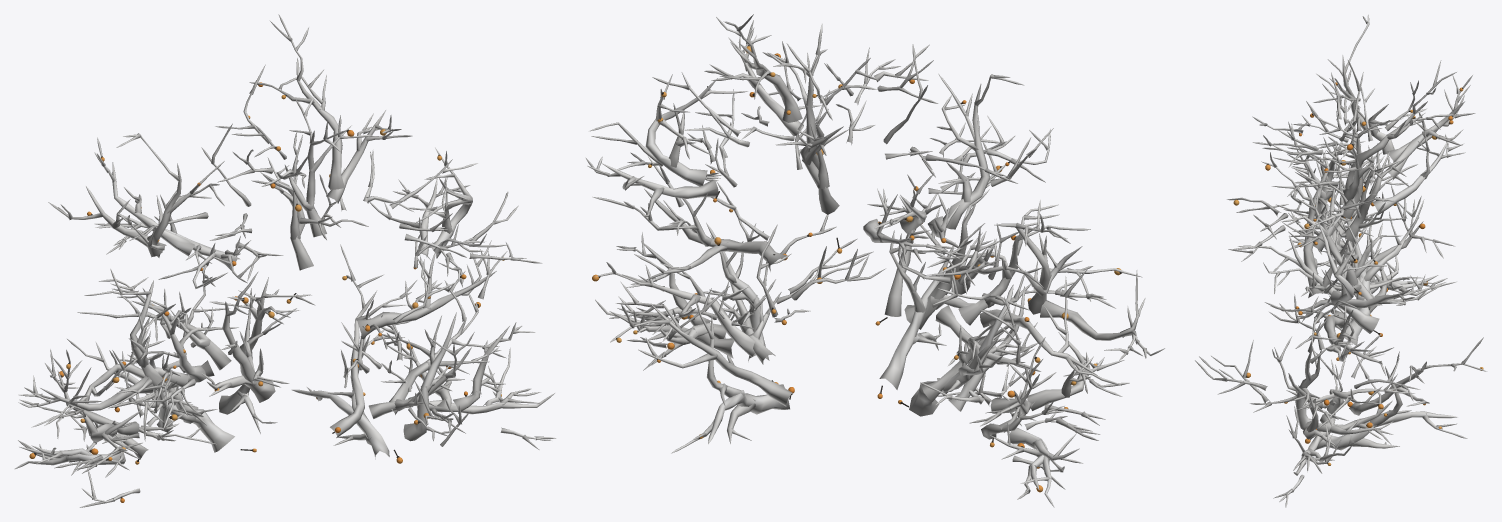
File: tree-fall.glb
3 views of the same model, side by side, from view 1: azimuth 30°, elevation 25°; view 2: azimuth 150°, elevation 25°; view 3: azimuth 270°, elevation 25° (orthographic). The views are drawn at different scales.
Parts seen in each view (by area): view 1: twigs, lights; view 2: twigs, lights; view 3: twigs, lights.
Part boxes in pixels (bbox=[...]): twigs: bbox=[14, 14, 556, 507]; lights: bbox=[29, 82, 504, 502]; twigs: bbox=[585, 14, 1164, 507]; lights: bbox=[592, 45, 1121, 492]; twigs: bbox=[1195, 14, 1486, 507]; lights: bbox=[1233, 82, 1483, 465].
Size of the model in its own units: 41.76 by 32.16 by 23.12.
